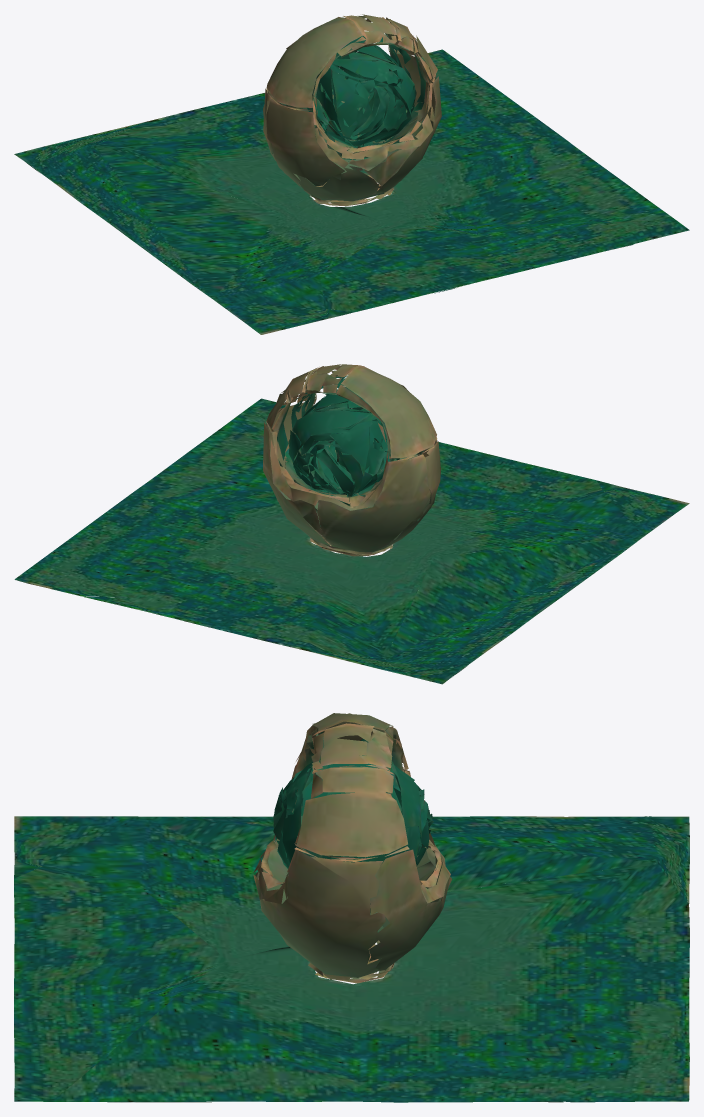
Rendered from relic-tideglass-heart-lod1.glb.
3 renders of one model, top to bottom at view 1: azimuth 30°, elevation 25°; view 2: azimuth 150°, elevation 25°; view 3: azimuth 270°, elevation 25°, orthographic. The views are drawn at different scales.
Parts seen in each view (by area): view 1: xenovoya_runtime_asset; view 2: xenovoya_runtime_asset; view 3: xenovoya_runtime_asset.
Boxes of the visible parts, x1=… form: xenovoya_runtime_asset: x1=14, y1=14, x2=689, y2=334; xenovoya_runtime_asset: x1=14, y1=364, x2=689, y2=684; xenovoya_runtime_asset: x1=14, y1=713, x2=689, y2=1102.
Size of the model in its own units: 1 by 0.3917 by 1.
1 material, 1 textured.
